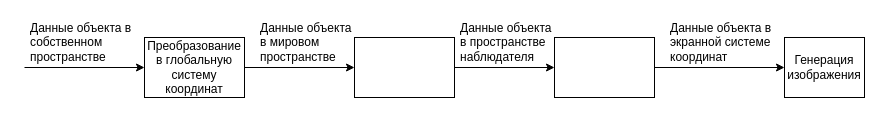
The diagram is 882 pixels wide and 115 high, and some of its shapes have lost their labels. Here are the shapes that lost their labels. From the top down, the centre of each, then its label:
At [404,67]: "Преобразование в систему координат наблюдателя".
At [604,67]: "Преобразование в экранную систему координат".
